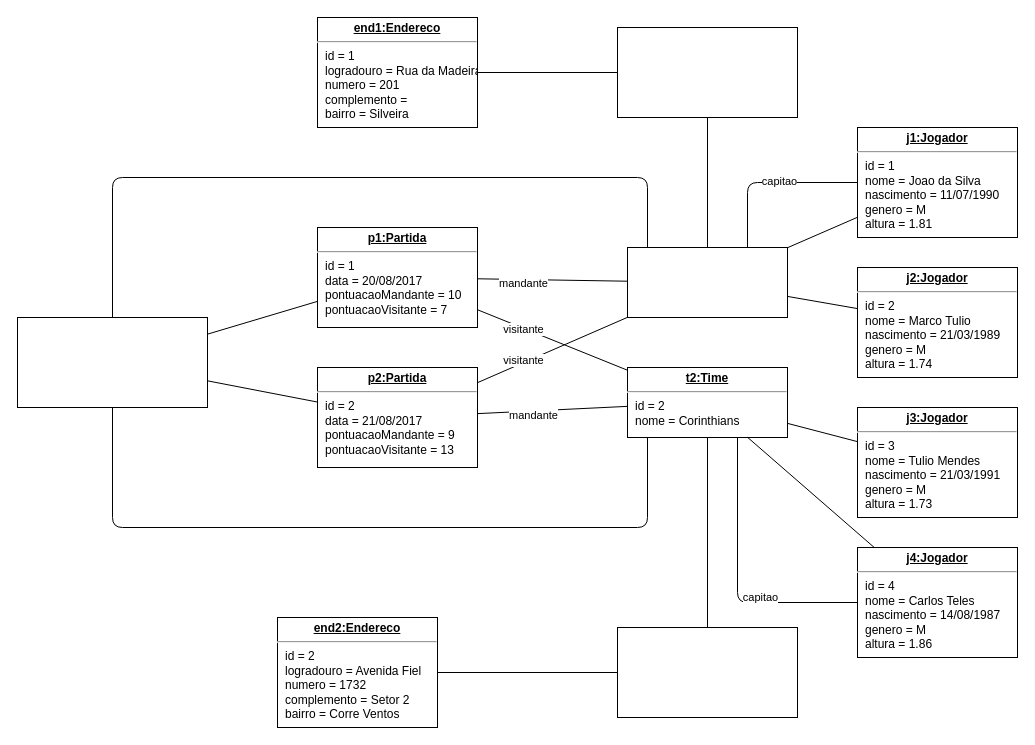
Image size: 1035x745. Some labels were removed from this diagram. Each missing label, with the centre of its shape:
c1:Campeonato id = 1 ano = 2017 nome = Copa de Handbol 2017: (x=112, y=362)
e1:Estadio id = 1 nome = Centro esportivo Fla: (x=707, y=72)
e2:Estadio id = 2 nome = Arena Gaviões: (x=707, y=672)
t1:Time id = 1 nome = Flamengo: (x=707, y=282)
